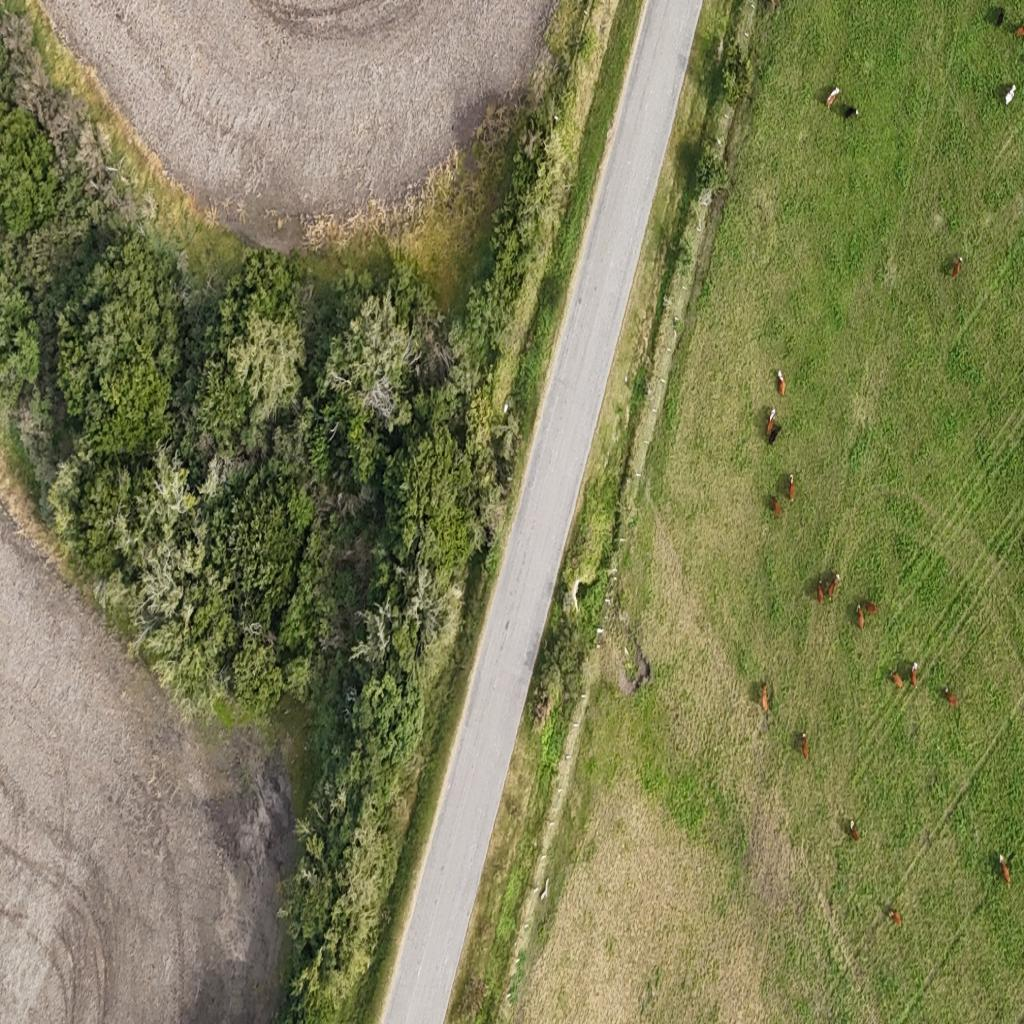cow: (816, 568, 837, 598), (997, 850, 1014, 887), (1000, 83, 1018, 109), (846, 816, 860, 844), (943, 684, 959, 708), (888, 667, 904, 691), (765, 424, 784, 444), (770, 492, 784, 519), (766, 410, 777, 443), (826, 86, 840, 110), (948, 256, 963, 278), (760, 682, 770, 713), (886, 908, 900, 930), (777, 369, 786, 396), (843, 105, 858, 121), (801, 730, 809, 760), (910, 660, 918, 688), (786, 474, 794, 502), (995, 7, 1005, 28), (1014, 21, 1024, 41), (864, 601, 878, 615), (857, 603, 864, 630), (817, 580, 824, 604)
